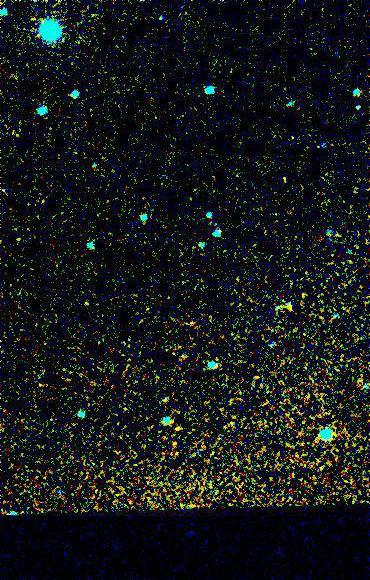star: (160, 415, 190, 445)
